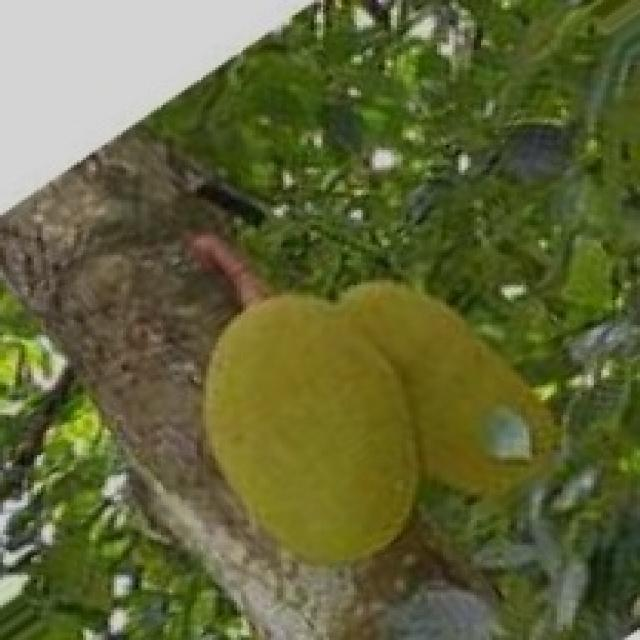Fruit: (163, 252, 468, 602)
